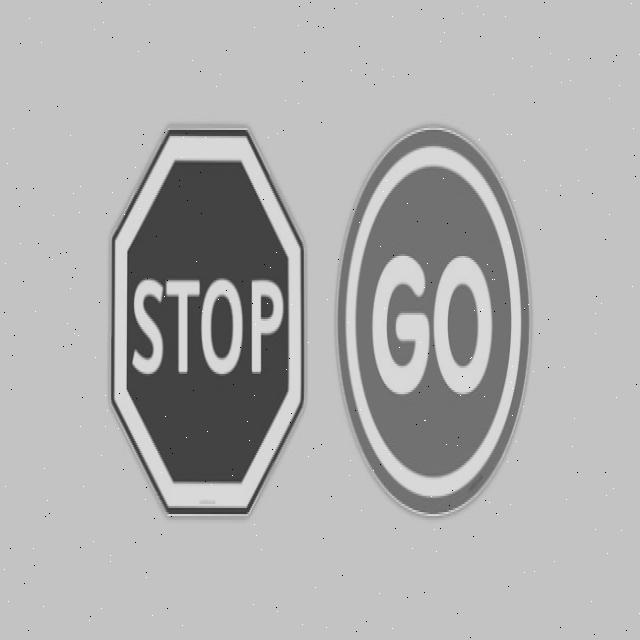stop: (107, 120, 307, 518)
